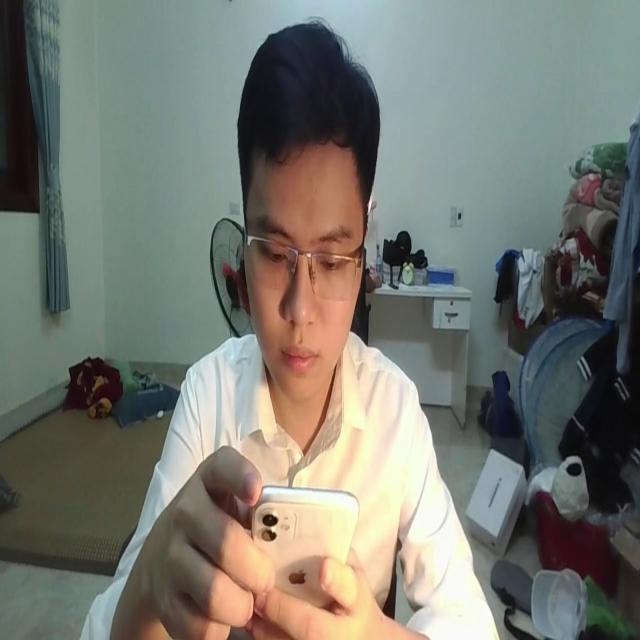phone: (248, 473, 359, 589)
student: (81, 18, 503, 640)
